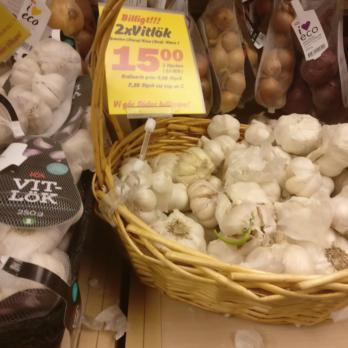Garlic: (133, 116, 348, 259)
